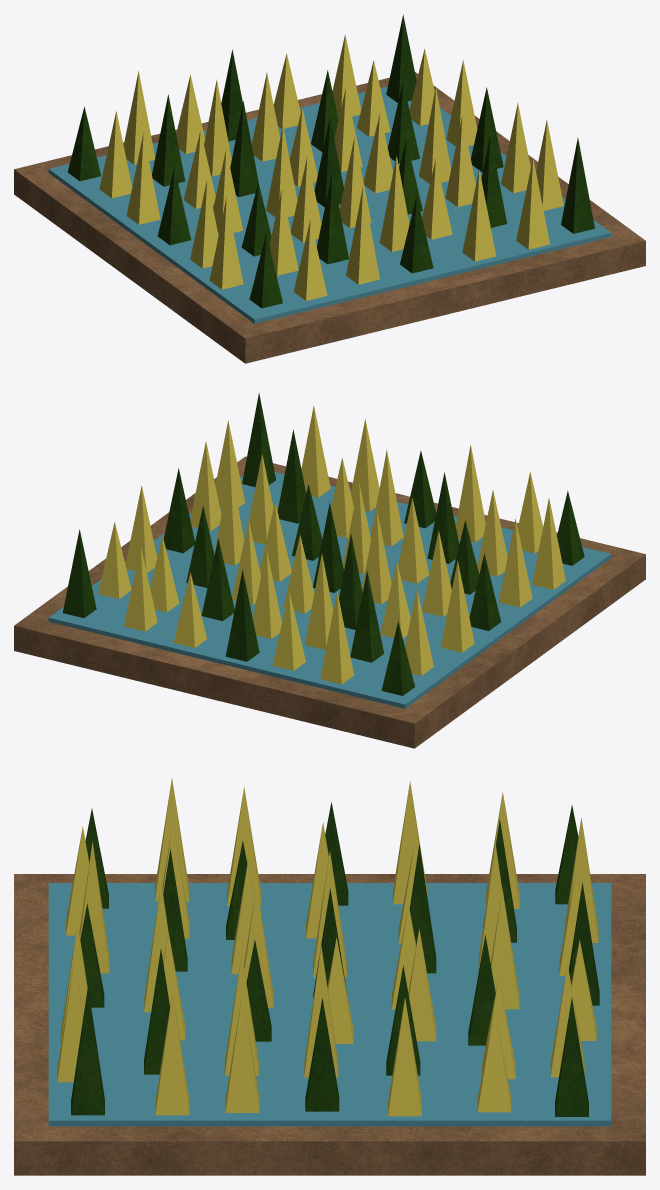
File: rice_patch.glb
3 renders of one model, top to bottom at view 1: azimuth 30°, elevation 25°; view 2: azimuth 150°, elevation 25°; view 3: azimuth 270°, elevation 25°, orthographic. The views are drawn at different scales.
Parts seen in each view (by area): view 1: rice_patch; view 2: rice_patch; view 3: rice_patch.
Part boxes in pixels (bbox=[...]): rice_patch: bbox=[14, 14, 645, 363]; rice_patch: bbox=[14, 393, 645, 748]; rice_patch: bbox=[14, 778, 645, 1175].
Bounding box in the file's own units: 2 × 0.5788 × 2.
Materials: 4 (2 with a texture image).
